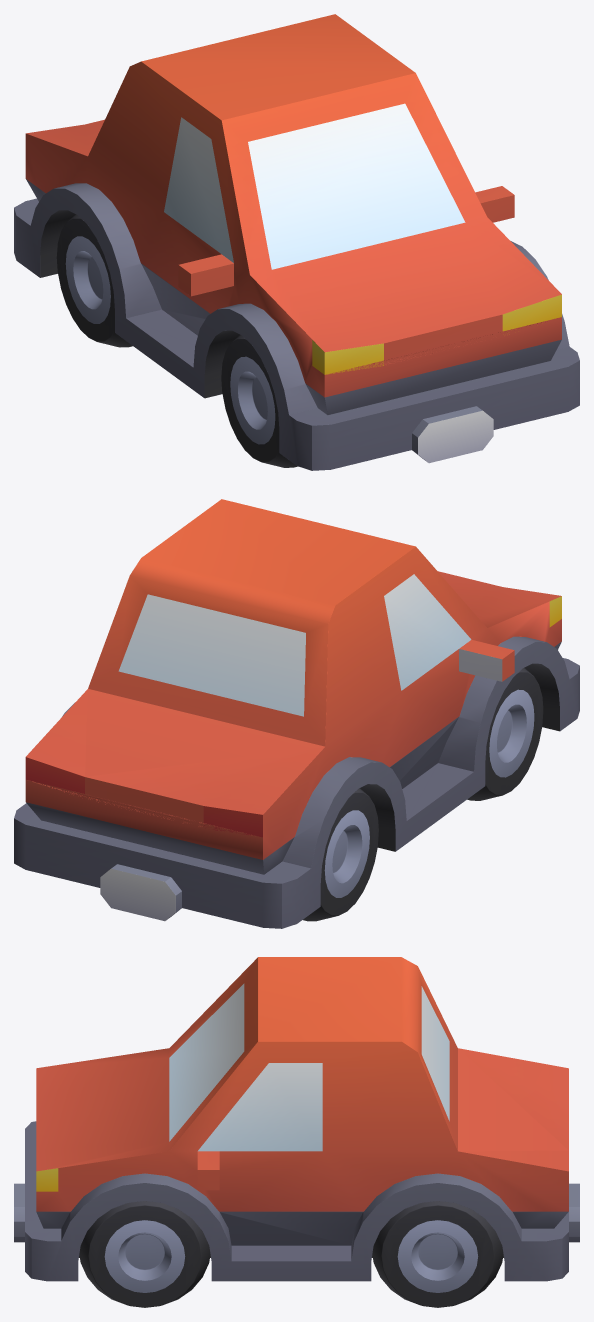
File: resort_wrecked_sedan.glb
3 renders of one model, top to bottom at view 1: azimuth 30°, elevation 25°; view 2: azimuth 150°, elevation 25°; view 3: azimuth 270°, elevation 25°, orthographic. The views are drawn at different scales.
Parts seen in each view (by area): view 1: resort_wrecked_sedan; view 2: resort_wrecked_sedan; view 3: resort_wrecked_sedan.
Part boxes in pixels (x1,y1,x2,y2): resort_wrecked_sedan: (14,14,579,470); resort_wrecked_sedan: (14,499,579,928); resort_wrecked_sedan: (14,957,579,1307).
Bounding box in the file's own units: 2.65 × 2.29 × 4.5.
6 materials, 5 textured.
